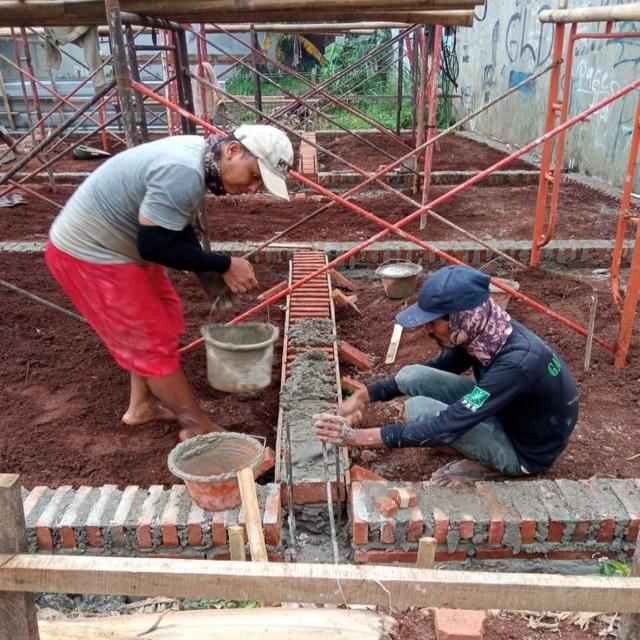no_boots: (182, 418, 262, 460), (119, 397, 188, 430)
no_gloves: (218, 252, 278, 302), (222, 242, 266, 302), (312, 408, 379, 447), (334, 376, 374, 420)
no_hardhat: (412, 272, 512, 354), (220, 125, 289, 202)
no_vest: (402, 324, 596, 478), (56, 128, 210, 280)
person: (39, 121, 290, 445), (319, 262, 579, 487)
